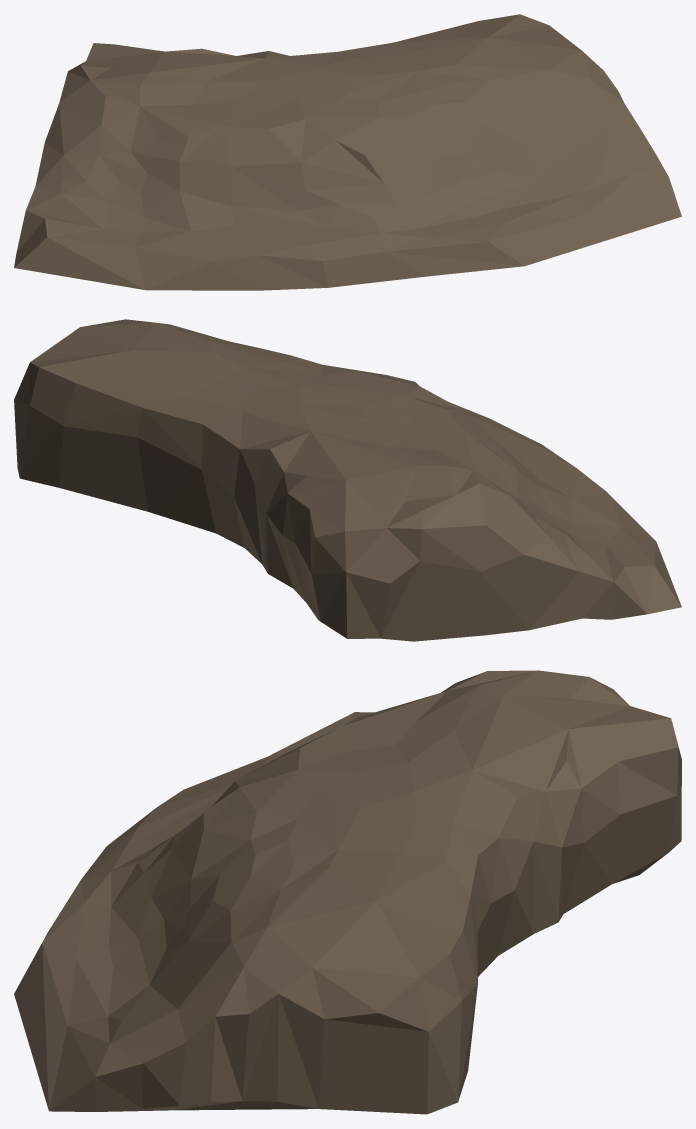
The model's file is samurai_SM_Gen_Env_Ground_River_Dirt_04.gltf.
3 renders of one model, top to bottom at view 1: azimuth 30°, elevation 25°; view 2: azimuth 150°, elevation 25°; view 3: azimuth 270°, elevation 25°, orthographic. The views are drawn at different scales.
Visible parts, largest first — view 1: SM_Gen_Env_Ground_River_Dirt_04; view 2: SM_Gen_Env_Ground_River_Dirt_04; view 3: SM_Gen_Env_Ground_River_Dirt_04.
Part boxes in pixels (left/top/right/bottom): SM_Gen_Env_Ground_River_Dirt_04: left=14, top=14, right=681, bottom=290; SM_Gen_Env_Ground_River_Dirt_04: left=14, top=319, right=681, bottom=641; SM_Gen_Env_Ground_River_Dirt_04: left=14, top=670, right=681, bottom=1114.
Bounding box in the file's own units: 10.36 × 2.15 × 7.52.
Materials: 1 (1 with a texture image).
